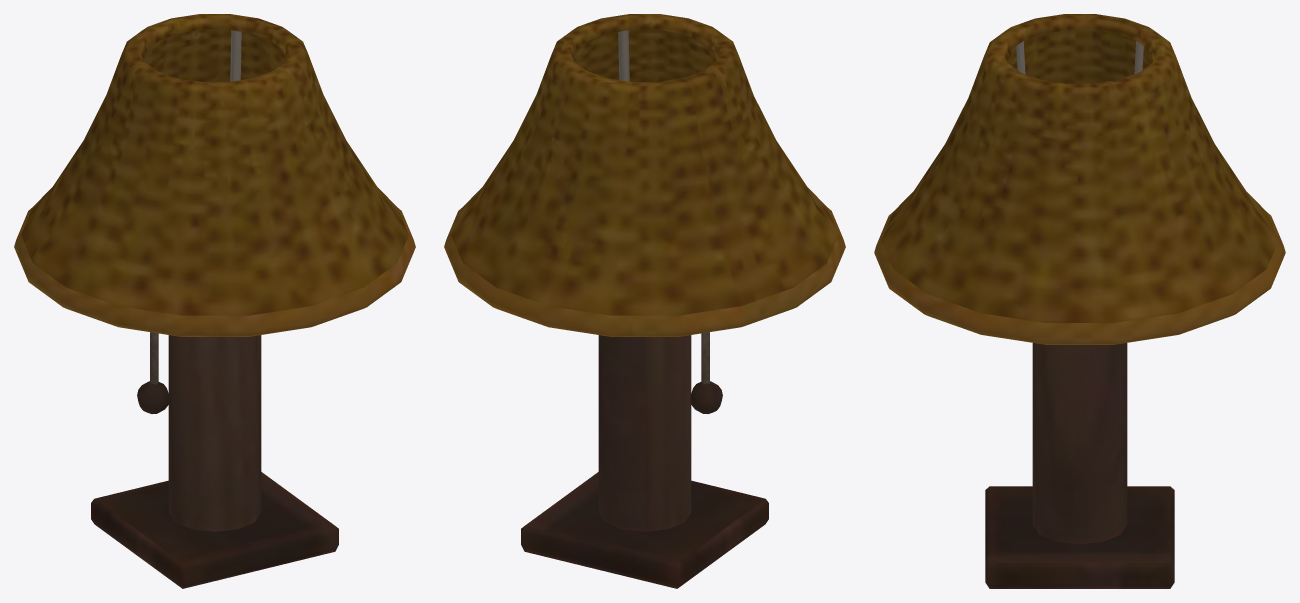
3 views of the same model, side by side, from view 1: azimuth 30°, elevation 25°; view 2: azimuth 150°, elevation 25°; view 3: azimuth 270°, elevation 25° (orthographic). The views are drawn at different scales.
Bounding box in the file's own units: 5.57 × 7.57 × 5.65.
1 material, 1 textured.
